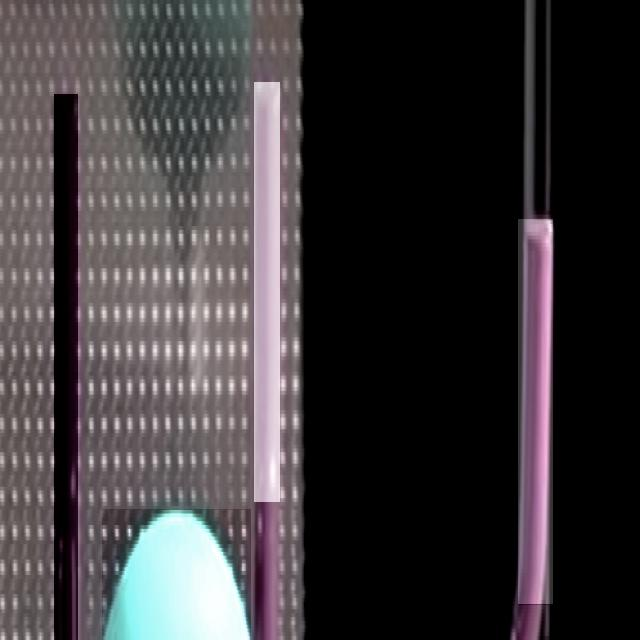Algae: (102, 509, 251, 640)
Reef: (518, 220, 553, 606), (54, 94, 78, 640), (254, 82, 280, 502)
